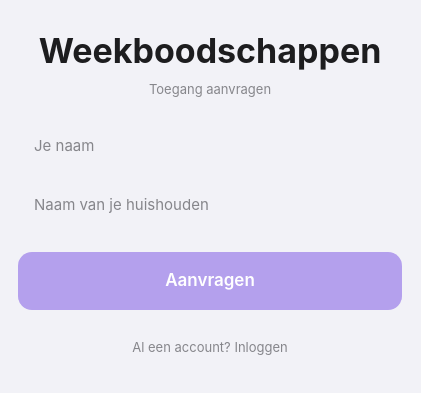
Register page › shows error when submitting empty fields
Click the button "Aanvragen".
click(210, 281)  # box [18, 252, 402, 310]
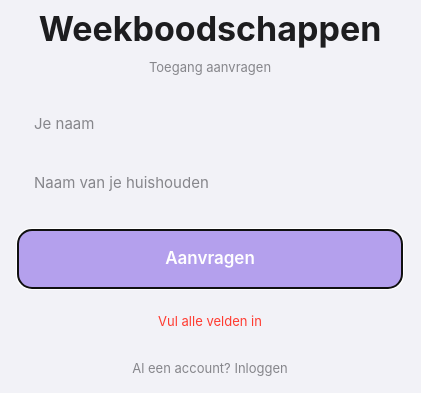
Expected: the text "Vul alle velden in" is shown, [158, 313, 262, 329]
